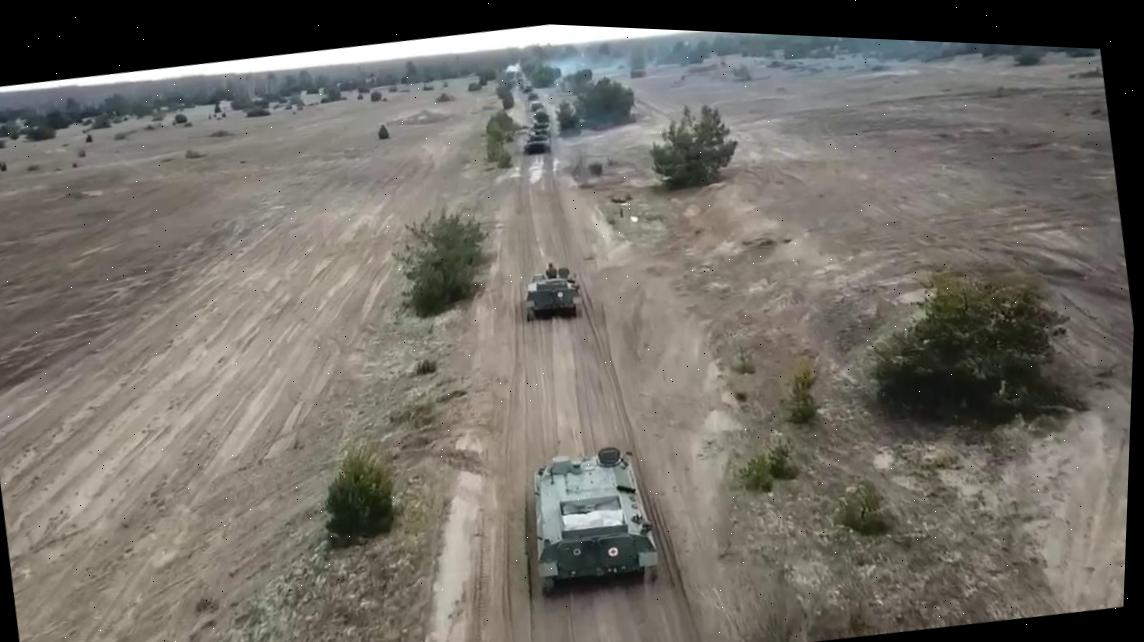tank: (517, 435, 667, 606), (519, 256, 584, 325), (517, 129, 553, 162)
